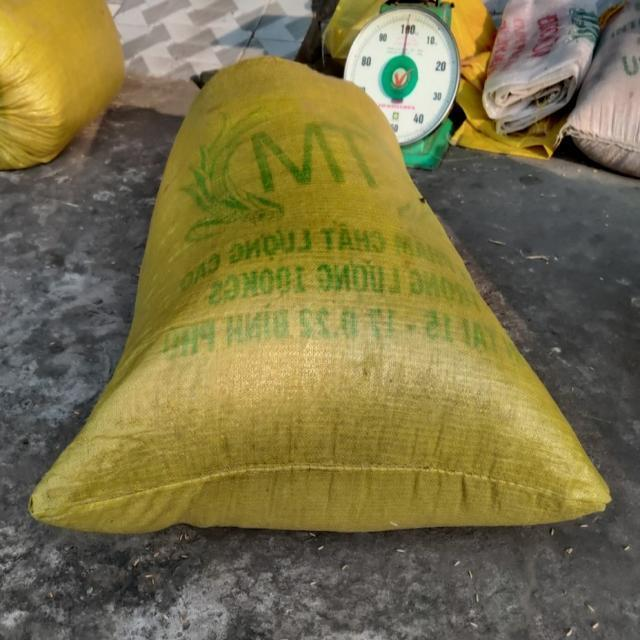gunny_bag: (29, 57, 611, 533), (0, 0, 123, 169)
